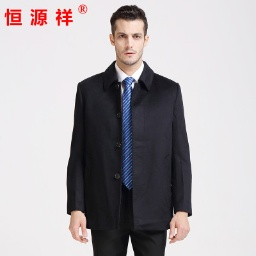face: (108, 4, 150, 67)
